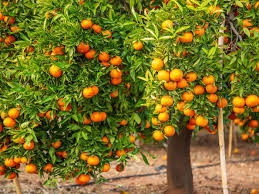orange: (169, 68, 184, 81), (152, 57, 165, 70), (155, 70, 169, 82), (82, 87, 93, 98)
